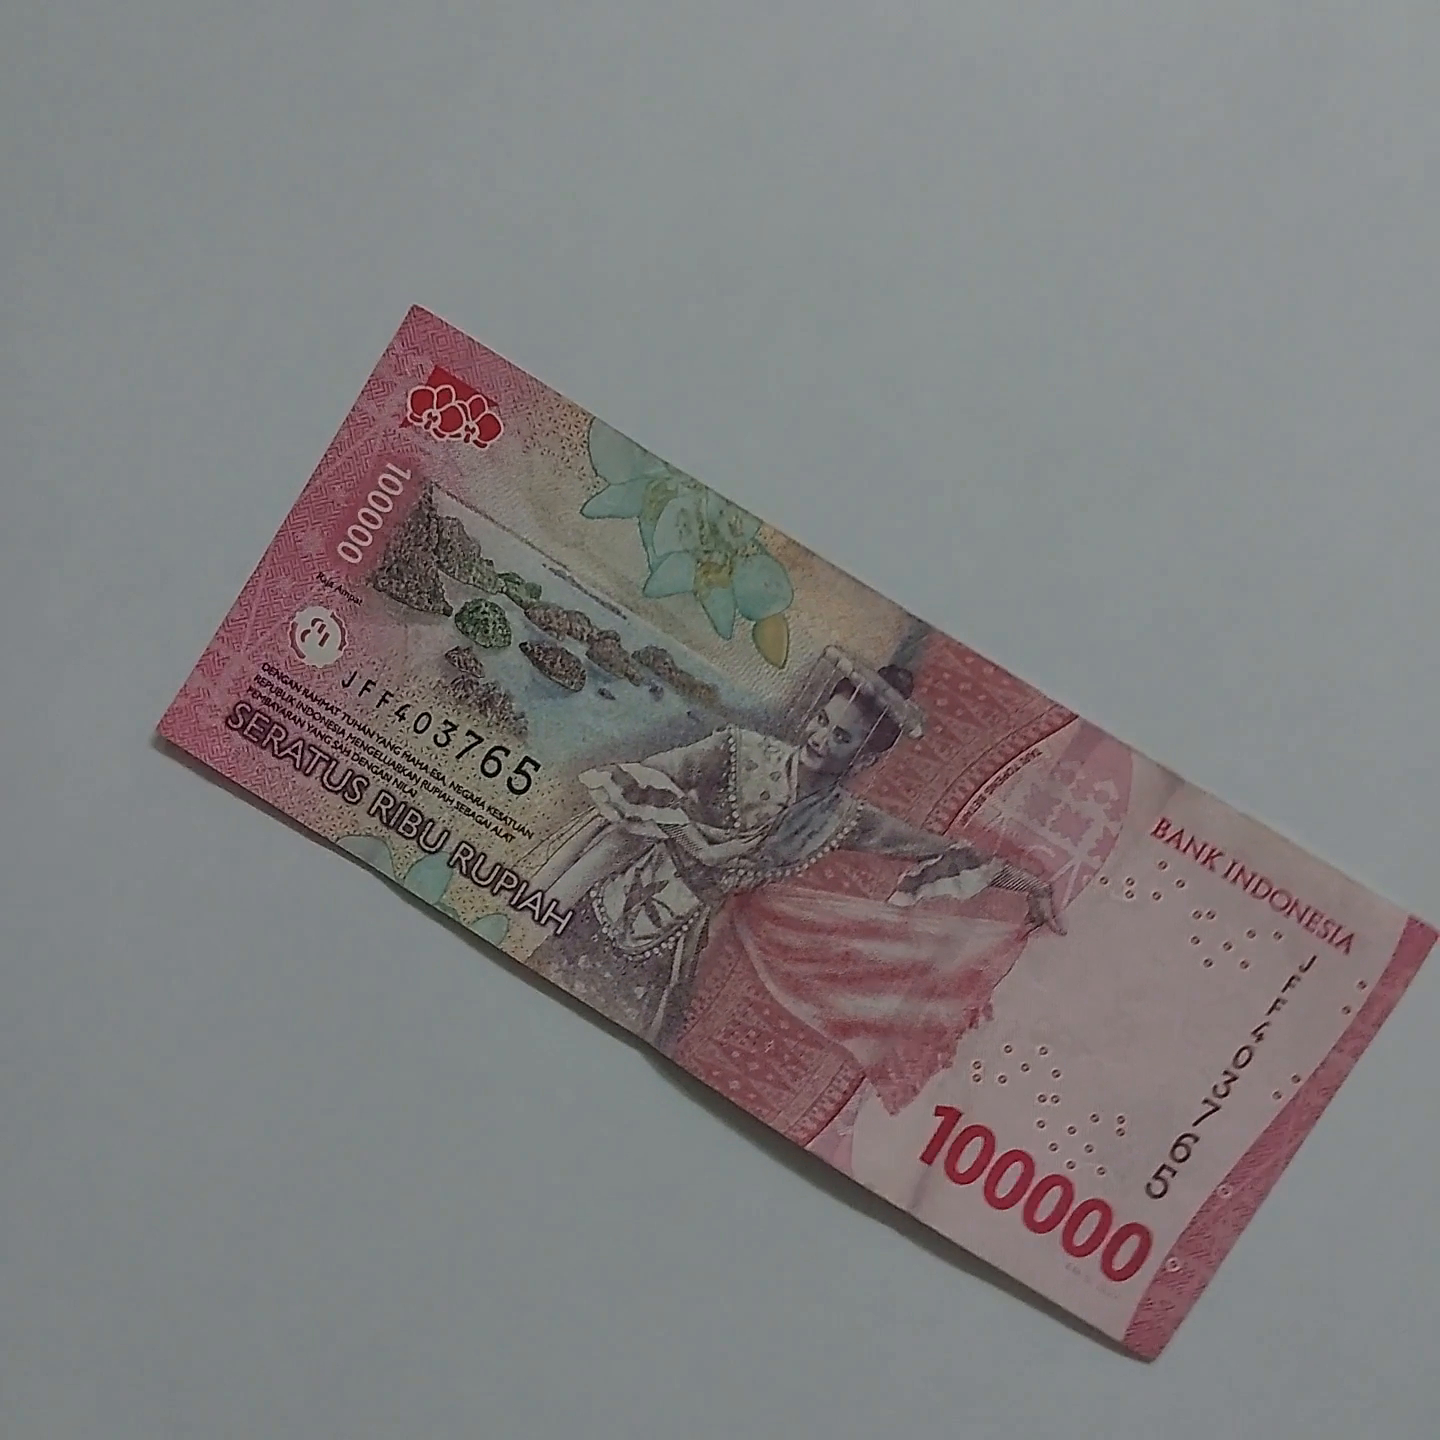100k: (455, 257, 1440, 837)
